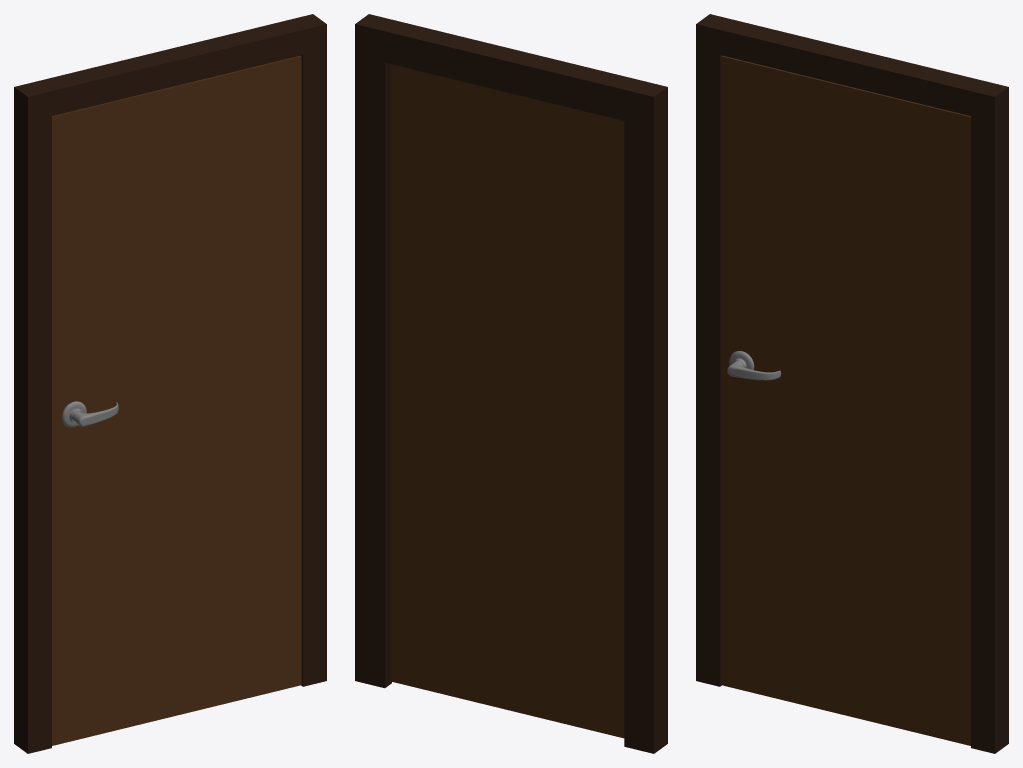
Rendered from Fake Door.fbx.
3 views of the same model, side by side, from view 1: azimuth 30°, elevation 25°; view 2: azimuth 150°, elevation 25°; view 3: azimuth 330°, elevation 25° (orthographic).
Visible parts, largest first — view 1: Door; view 2: Door; view 3: Door.
Boxes of the visible parts, box(x1,y1,x2,y2) form: Door: box(14, 14, 326, 753); Door: box(355, 14, 667, 753); Door: box(696, 14, 1008, 753).
Bounding box in the file's own units: 930 × 1953 × 133.
